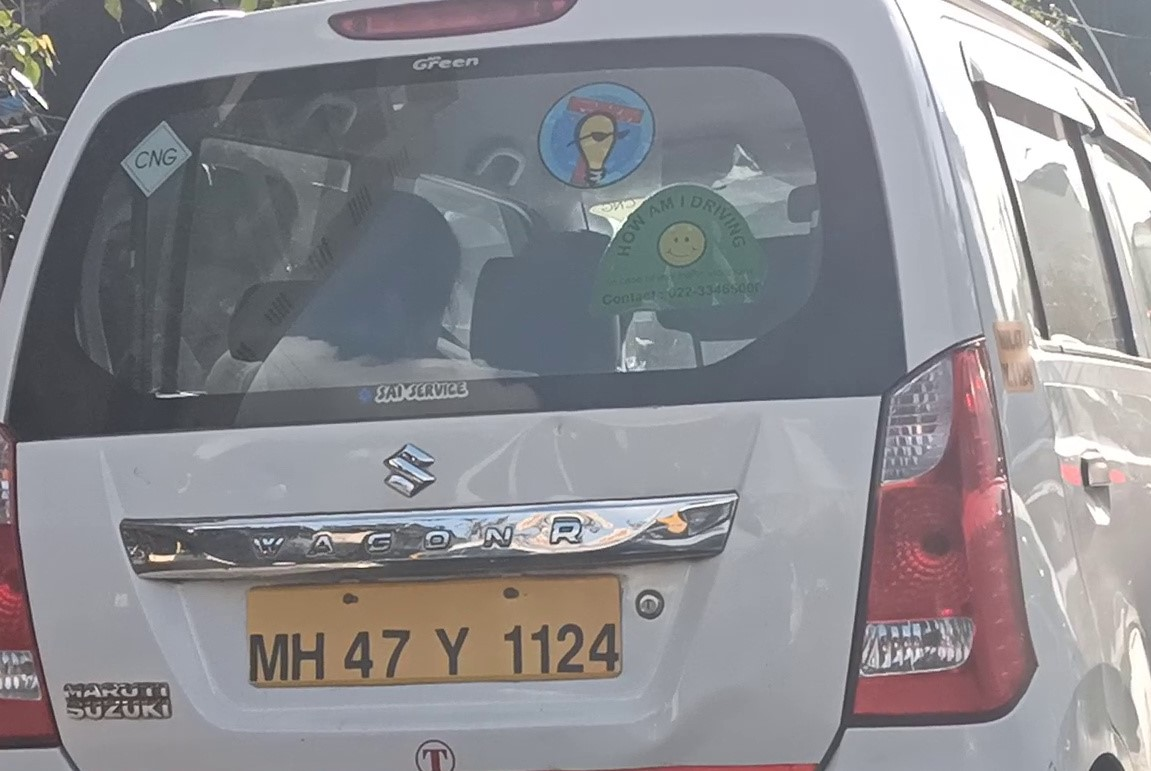MH47Y1124: (246, 574, 625, 677)
